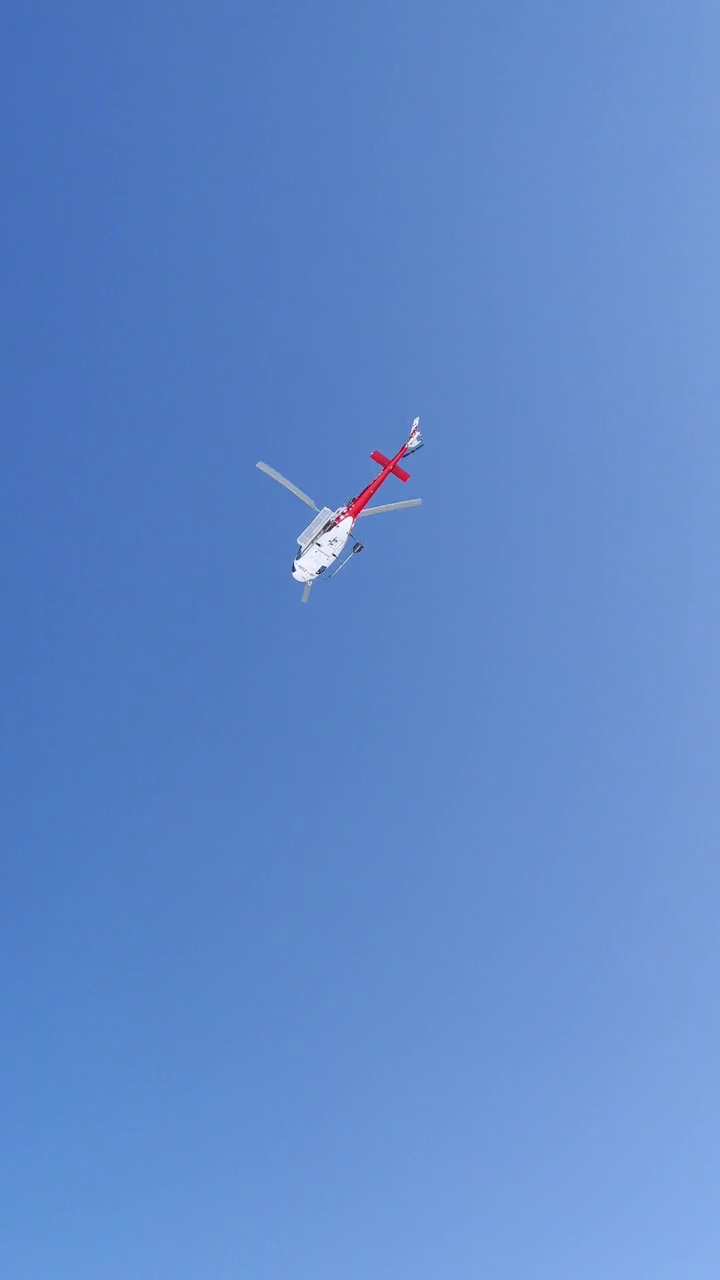heli: (258, 412, 425, 608)
